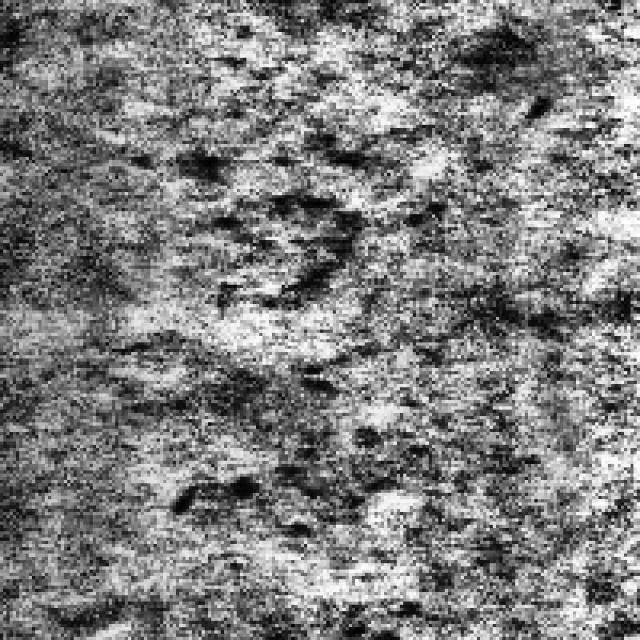Crazing: (198, 119, 442, 314), (227, 352, 426, 538)
